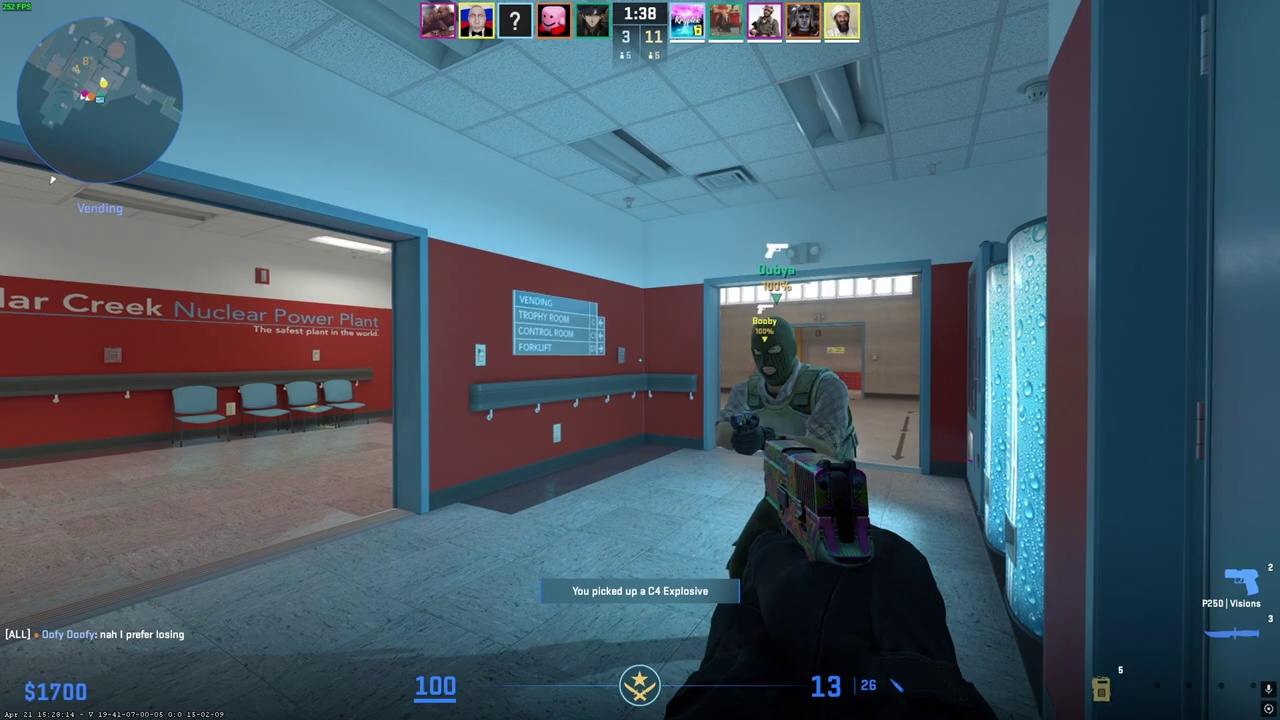Terrorist: (727, 316, 859, 575)
